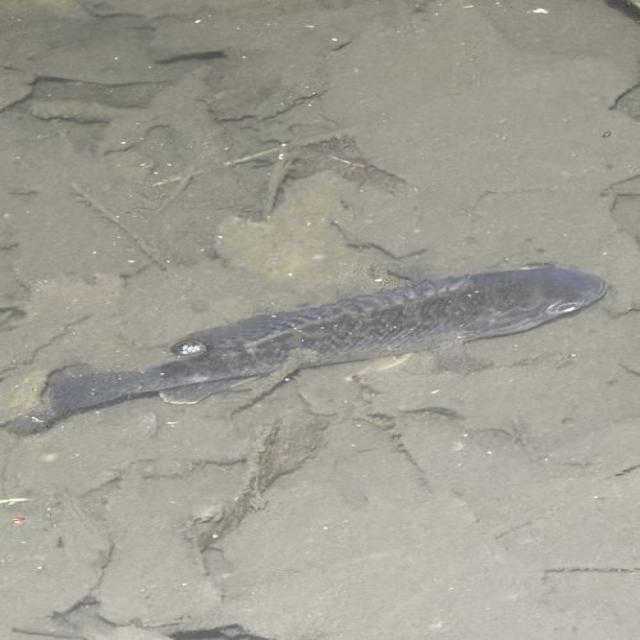Gunes Levregi: (21, 256, 620, 434)
